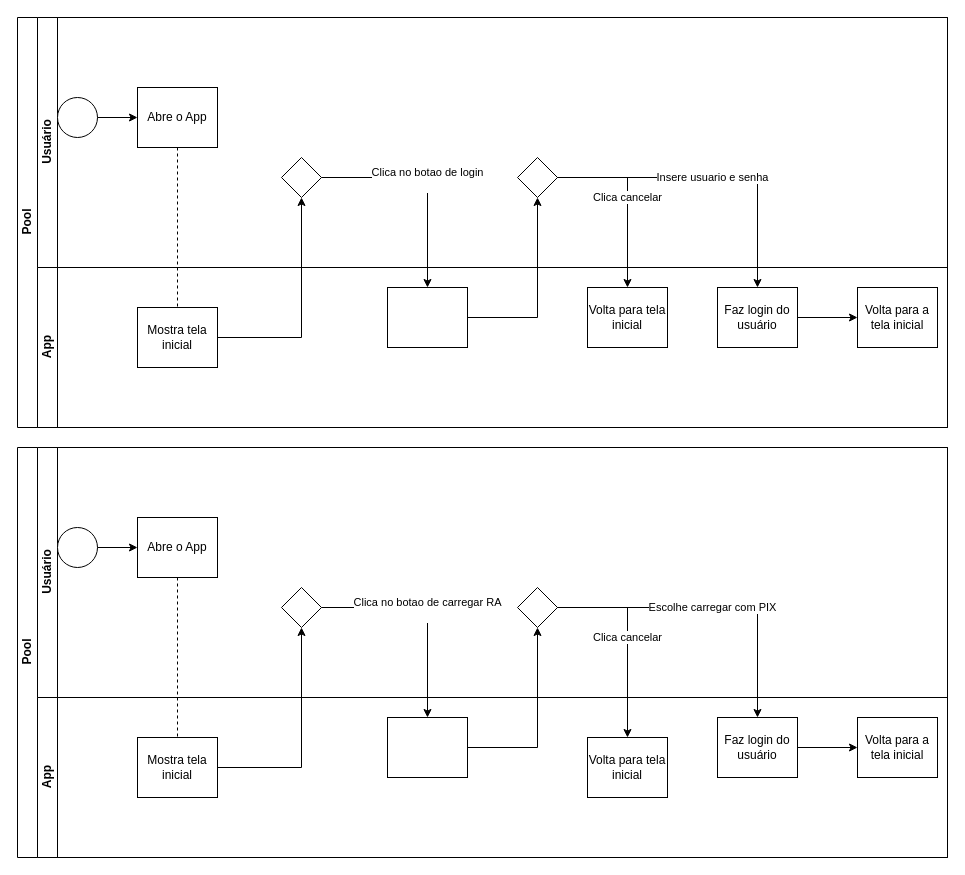
Image size: 965x875. Some labels were removed from this diagram. The centre of each missing label's shape, as x and y in pixels:
Abrir tela de carregamento de RA: the point at 427,747
Abrir tela de login: the point at 427,317
